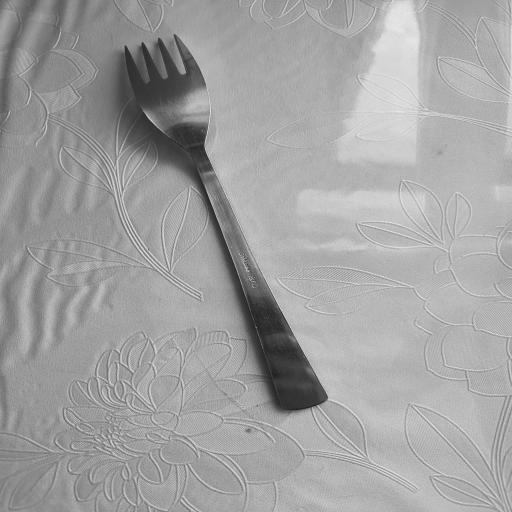fork: (115, 29, 343, 418)
